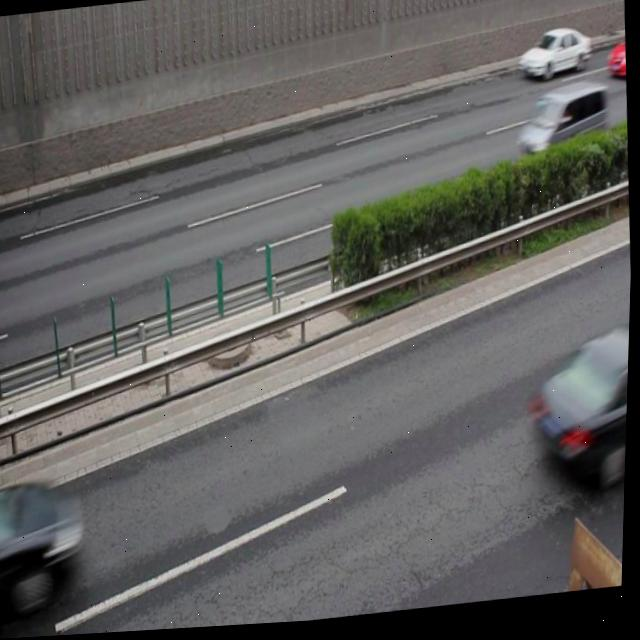car: (533, 336, 631, 499), (0, 468, 81, 617), (517, 31, 591, 89), (606, 46, 628, 84)
truck: (515, 84, 613, 174)
